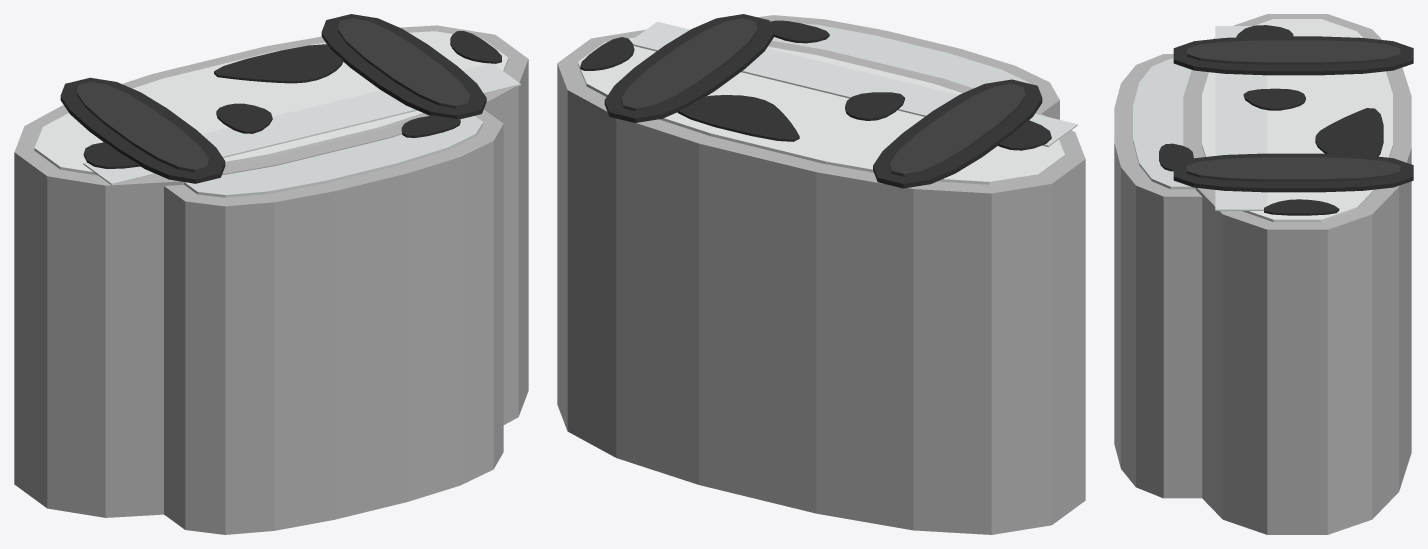
The model's file is bag_malhada.fbx.
3 views of the same model, side by side, from view 1: azimuth 30°, elevation 25°; view 2: azimuth 150°, elevation 25°; view 3: azimuth 270°, elevation 25° (orthographic). The views are drawn at different scales.
Visible parts, largest first — view 1: bag_malhada_mochila; view 2: bag_malhada_mochila; view 3: bag_malhada_mochila.
Part boxes in pixels (x1,y1,x2,y2): bag_malhada_mochila: [14, 14, 528, 534]; bag_malhada_mochila: [557, 14, 1085, 534]; bag_malhada_mochila: [1114, 14, 1413, 534].
Bounding box in the file's own units: 2.73 × 1.87 × 1.6.
Materials: 1 (1 with a texture image).
